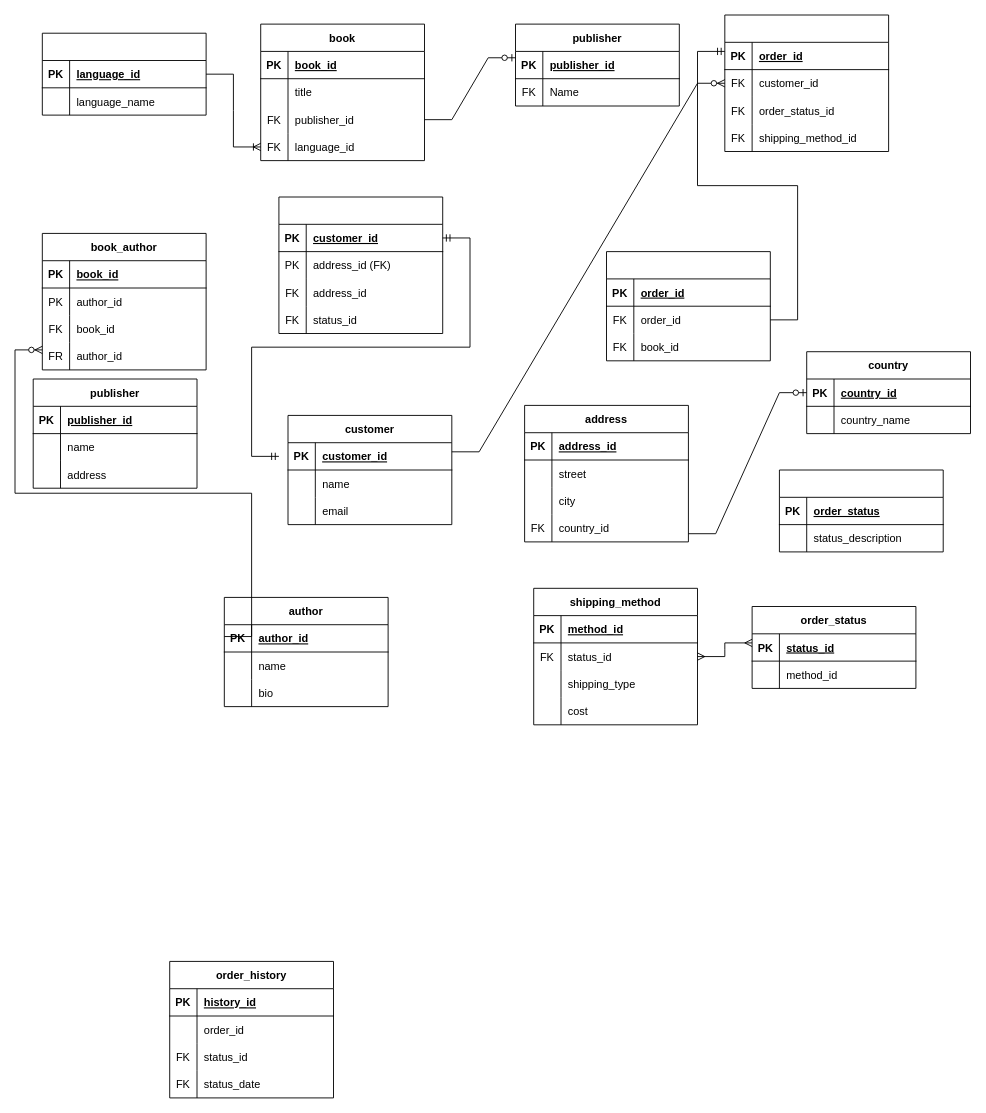
This 986x1113 diagram has some shape labels left out. Each missing label, with the box of its shape:
address_status: (779, 469, 943, 552)
book_language: (41, 32, 206, 115)
cust_order: (724, 14, 889, 152)
customer_address: (278, 196, 443, 334)
order_line: (606, 251, 770, 361)
